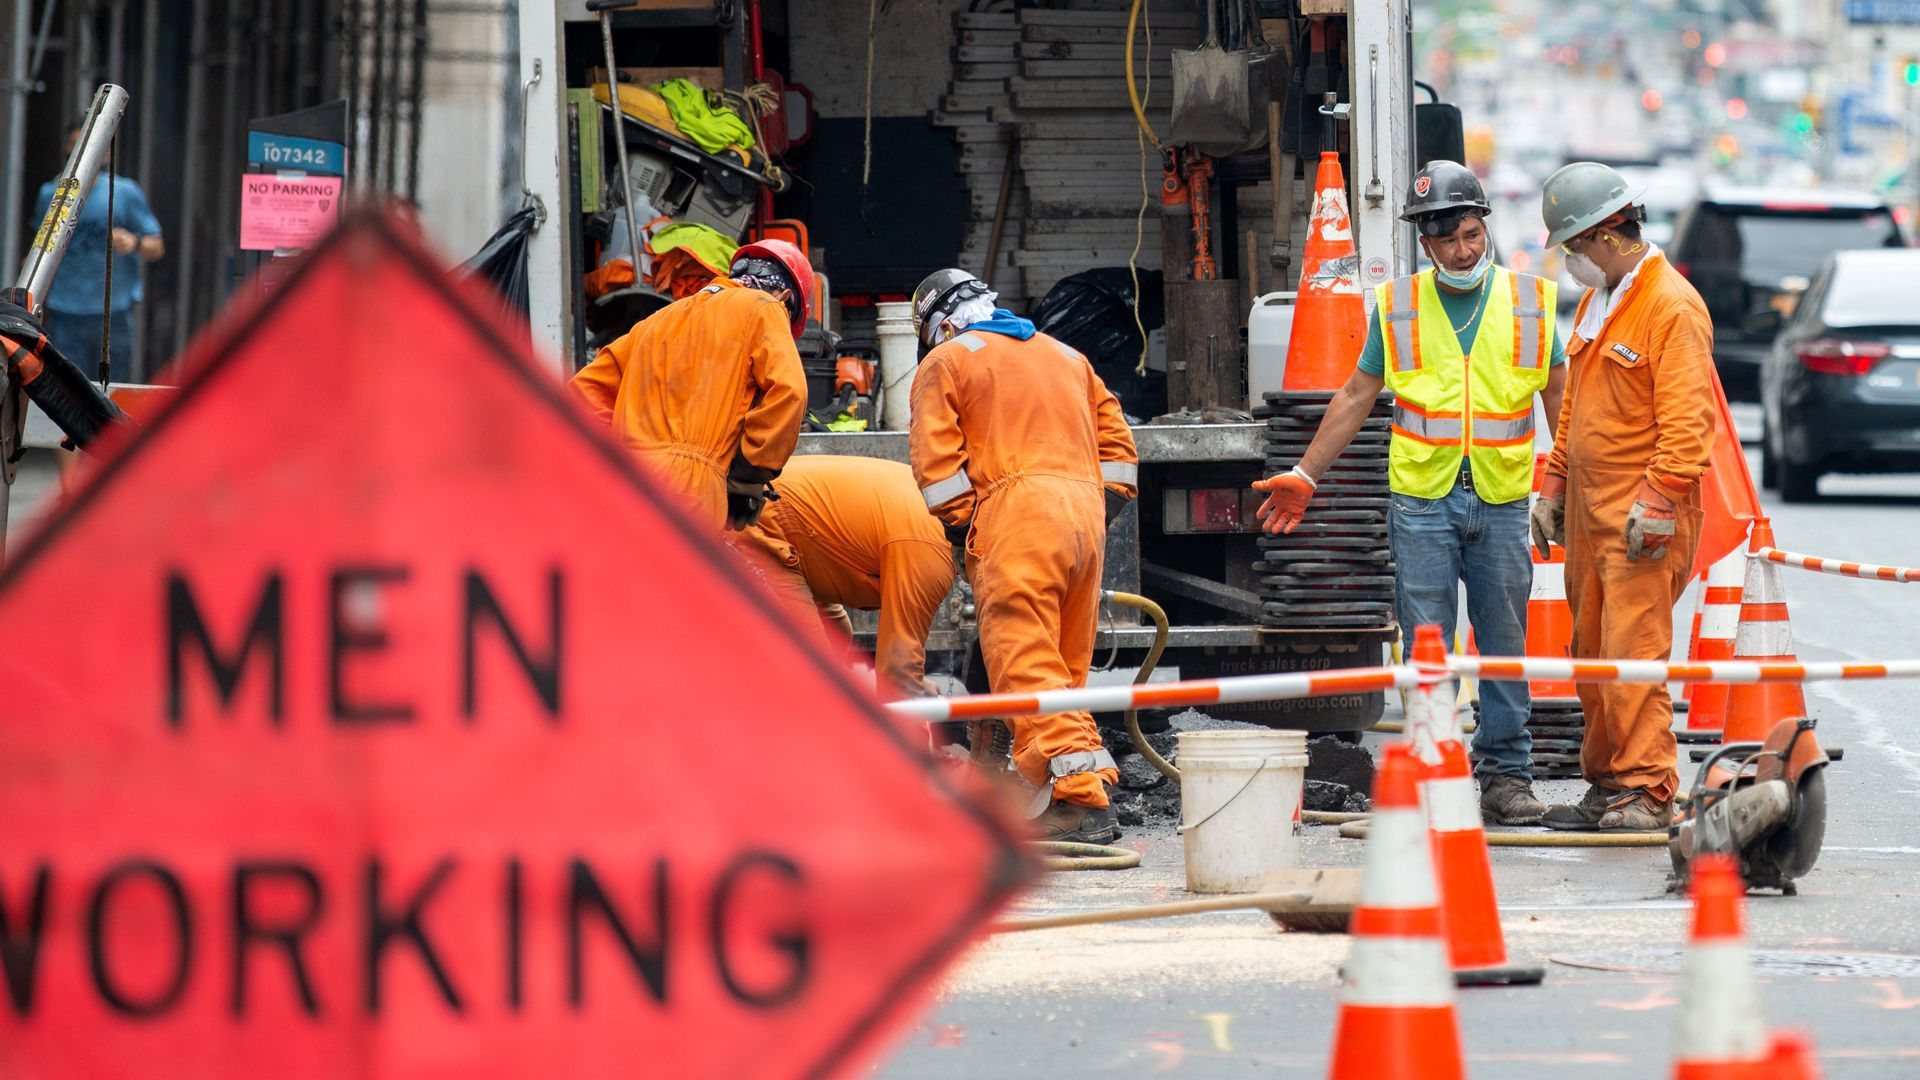Hard Hat: (1541, 167, 1648, 289), (1396, 162, 1493, 292), (725, 242, 813, 340), (910, 268, 1000, 363)
Person: (1233, 157, 1568, 820), (907, 268, 1141, 843), (1524, 166, 1708, 828), (560, 242, 802, 536), (745, 429, 958, 700), (32, 116, 164, 383)
Vest: (1377, 220, 1556, 502)
